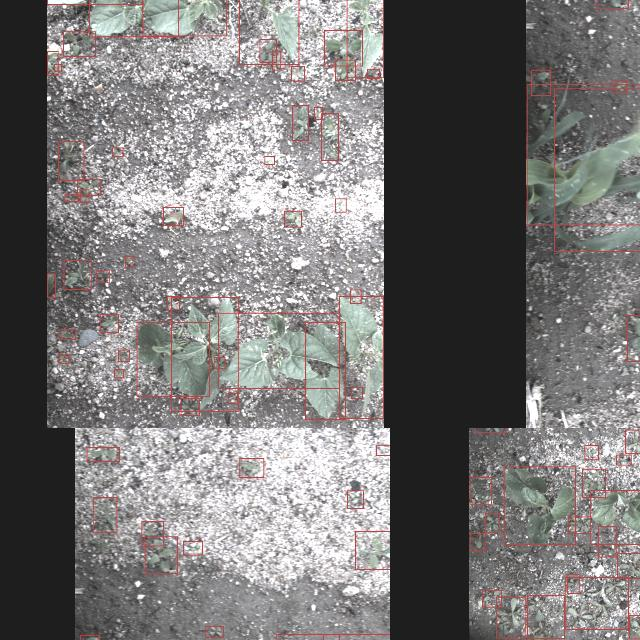crop: (526, 83, 640, 224), (553, 88, 640, 251), (218, 313, 339, 389), (170, 297, 238, 411), (503, 467, 575, 545), (136, 322, 210, 396), (340, 296, 384, 418), (306, 322, 346, 420), (239, 0, 299, 64), (89, 0, 179, 37), (143, 0, 227, 36), (347, 0, 383, 78), (591, 490, 640, 544)
weed: (566, 577, 628, 629), (528, 596, 564, 638), (324, 30, 362, 66), (356, 530, 390, 569), (144, 536, 178, 574), (496, 596, 526, 638), (58, 142, 84, 180), (62, 32, 96, 56), (64, 260, 90, 290), (94, 498, 116, 532), (322, 114, 338, 160), (582, 468, 606, 498), (626, 315, 640, 361), (598, 526, 616, 558), (617, 553, 640, 578), (469, 478, 491, 504), (292, 106, 308, 140), (141, 522, 163, 546), (530, 70, 550, 96), (240, 458, 264, 478), (86, 447, 120, 461), (162, 207, 184, 226), (336, 60, 356, 80), (76, 180, 100, 196), (180, 398, 200, 416), (260, 40, 276, 62), (568, 517, 590, 533), (625, 429, 640, 452), (482, 590, 501, 608), (100, 315, 118, 333), (46, 51, 58, 75), (284, 211, 302, 227), (348, 491, 364, 509), (566, 574, 580, 594), (485, 513, 499, 533), (595, 0, 628, 8), (629, 615, 640, 639), (184, 541, 202, 555), (470, 534, 484, 550), (205, 626, 223, 638), (584, 445, 598, 459), (292, 66, 304, 82), (47, 274, 55, 298), (612, 80, 628, 92), (272, 52, 282, 70), (167, 296, 179, 310), (96, 270, 110, 282), (59, 329, 75, 339), (616, 455, 632, 465), (351, 290, 362, 304), (336, 198, 346, 212), (376, 445, 390, 455), (368, 69, 380, 79), (118, 350, 128, 362), (314, 106, 322, 120), (64, 194, 78, 202), (213, 358, 224, 368), (59, 354, 69, 364), (113, 368, 123, 378), (352, 388, 362, 398), (228, 394, 238, 404), (125, 256, 133, 268), (80, 190, 88, 202), (324, 634, 340, 640), (265, 156, 275, 164), (112, 148, 122, 156), (54, 64, 61, 72)
